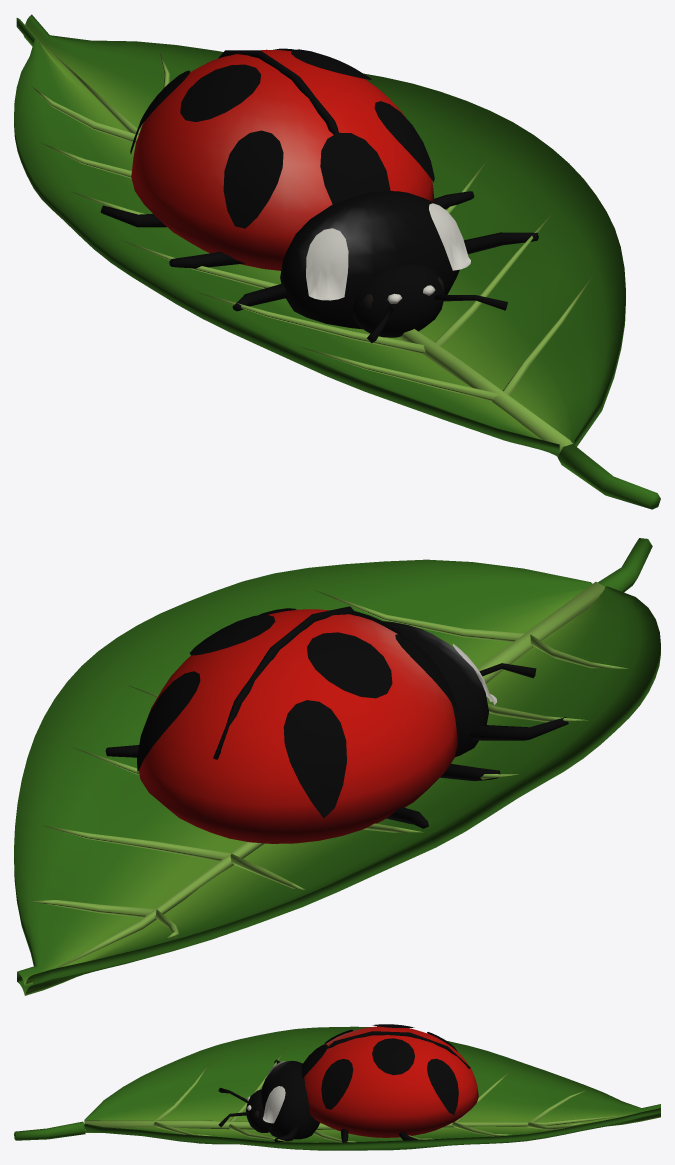
File: SevenSpotLadybird.fbx
3 renders of one model, top to bottom at view 1: azimuth 30°, elevation 25°; view 2: azimuth 150°, elevation 25°; view 3: azimuth 270°, elevation 25°, orthographic. The views are drawn at different scales.
Parts seen in each view (by area): view 1: SevenSpotLadybird; view 2: SevenSpotLadybird; view 3: SevenSpotLadybird.
Part boxes in pixels (x1,y1,x2,y2): SevenSpotLadybird: [14, 14, 660, 509]; SevenSpotLadybird: [14, 538, 660, 995]; SevenSpotLadybird: [14, 1024, 660, 1150].
Bounding box in the file's own units: 0.5864 × 0.2563 × 1.4.
